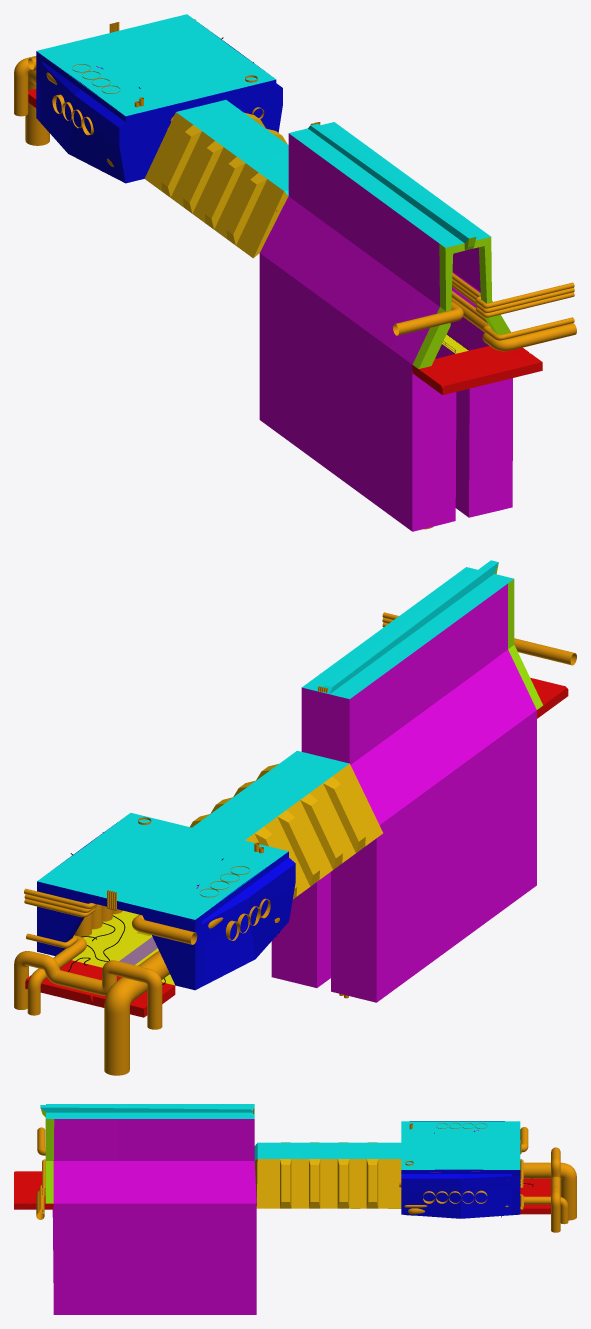
File: Tutorial_Mesh.fbx
3 views of the same model, one above another, from view 1: azimuth 30°, elevation 25°; view 2: azimuth 150°, elevation 25°; view 3: azimuth 270°, elevation 25° (orthographic). The views are drawn at different scales.
Parts seen in each view (by area): view 1: Tutorial_Walls3, Tutorial_Roof, Tutorial_Walls1, Tutorial_Walls2, Tutorial_Cliffs, Tutorial_StationEntrance, Tutorial_Pipe_1, Tutorial_Pipe_4, Tutorial_Pipe_3, Tutorial_Pipe_22, Tutorial_Pipe_2, Tutorial_Pipe_5; view 2: Tutorial_Walls3, Tutorial_Roof, Tutorial_Walls2, Tutorial_Walls1, Tutorial_StartEntrance, Tutorial_Pipe_22, Tutorial_Pipe_3, Tutorial_Cliffs, Tutorial_Floor, Tutorial_Pipe_4, Tutorial_Pipe_1, Tutorial_StationEntrance; view 3: Tutorial_Walls3, Tutorial_Roof, Tutorial_Walls2, Tutorial_Walls1, Tutorial_Cliffs, Tutorial_Pipe_3, Tutorial_Pipe_22, Tutorial_StationEntrance, Tutorial_Pipe_1, Tutorial_Pipe_4, Tutorial_StartEntrance.
Boxes of the visible parts, left/top/right/bottom form: Tutorial_Walls3: left=259, top=133, right=512, bottom=531; Tutorial_Roof: left=37, top=14, right=490, bottom=247; Tutorial_Walls1: left=40, top=26, right=282, bottom=183; Tutorial_Walls2: left=144, top=112, right=288, bottom=258; Tutorial_Cliffs: left=28, top=89, right=542, bottom=394; Tutorial_StationEntrance: left=412, top=237, right=510, bottom=368; Tutorial_Pipe_1: left=451, top=297, right=576, bottom=351; Tutorial_Pipe_4: left=28, top=57, right=463, bottom=335; Tutorial_Pipe_3: left=25, top=70, right=435, bottom=529; Tutorial_Pipe_22: left=14, top=56, right=36, bottom=116; Tutorial_Pipe_2: left=451, top=291, right=574, bottom=340; Tutorial_Pipe_5: left=194, top=19, right=574, bottom=308; Tutorial_Walls3: left=271, top=583, right=536, bottom=1002; Tutorial_Roof: left=37, top=560, right=513, bottom=919; Tutorial_Walls2: left=190, top=764, right=382, bottom=899; Tutorial_Walls1: left=58, top=822, right=295, bottom=985; Tutorial_StartEntrance: left=37, top=881, right=204, bottom=990; Tutorial_Pipe_22: left=14, top=951, right=162, bottom=1029; Tutorial_Pipe_3: left=104, top=917, right=279, bottom=1075; Tutorial_Cliffs: left=25, top=678, right=568, bottom=1017; Tutorial_Floor: left=72, top=910, right=174, bottom=985; Tutorial_Pipe_4: left=132, top=638, right=576, bottom=944; Tutorial_Pipe_1: left=27, top=935, right=86, bottom=1015; Tutorial_StationEntrance: left=494, top=563, right=543, bottom=709; Tutorial_Walls3: left=52, top=1119, right=256, bottom=1314; Tutorial_Roof: left=40, top=1104, right=520, bottom=1169; Tutorial_Walls2: left=254, top=1142, right=401, bottom=1208; Tutorial_Walls1: left=401, top=1121, right=511, bottom=1218; Tutorial_Cliffs: left=14, top=1171, right=550, bottom=1214; Tutorial_Pipe_3: left=523, top=1162, right=576, bottom=1220; Tutorial_Pipe_22: left=551, top=1147, right=560, bottom=1232; Tutorial_StationEntrance: left=40, top=1108, right=54, bottom=1203; Tutorial_Pipe_1: left=36, top=1190, right=568, bottom=1224; Tutorial_Pipe_4: left=37, top=1127, right=528, bottom=1155; Tutorial_StartEntrance: left=511, top=1170, right=520, bottom=1215.
Size of the model in its own units: 5080 by 7411 by 19457.
